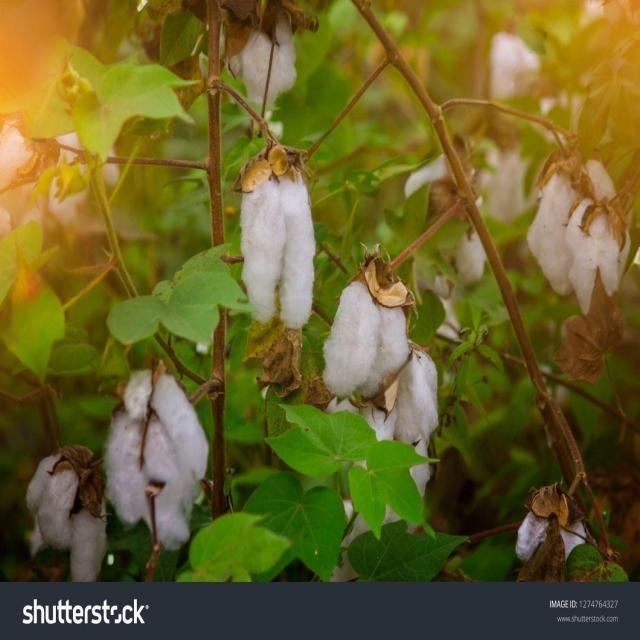Early_blight: (104, 360, 209, 551), (528, 162, 632, 313), (237, 145, 316, 335), (321, 253, 410, 401), (24, 444, 109, 578), (226, 4, 296, 99), (388, 344, 441, 459)
